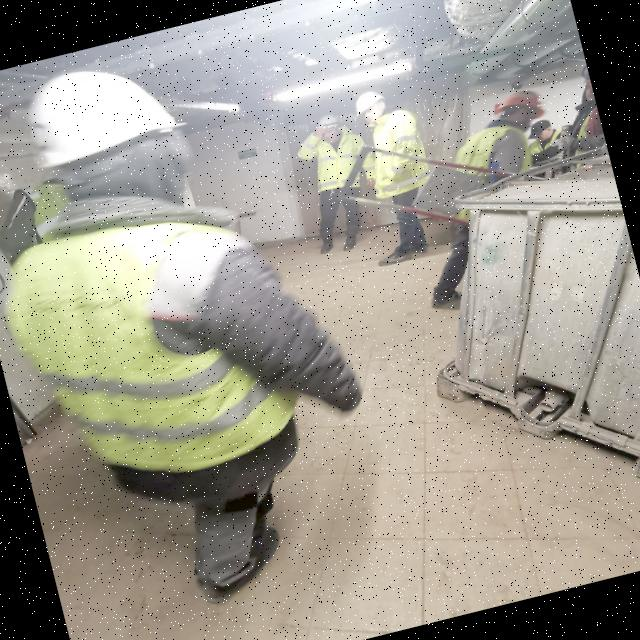Helmet: (13, 48, 209, 228), (486, 85, 553, 135), (350, 86, 396, 129), (311, 112, 347, 147)
NoHelmet: (520, 118, 560, 151)
